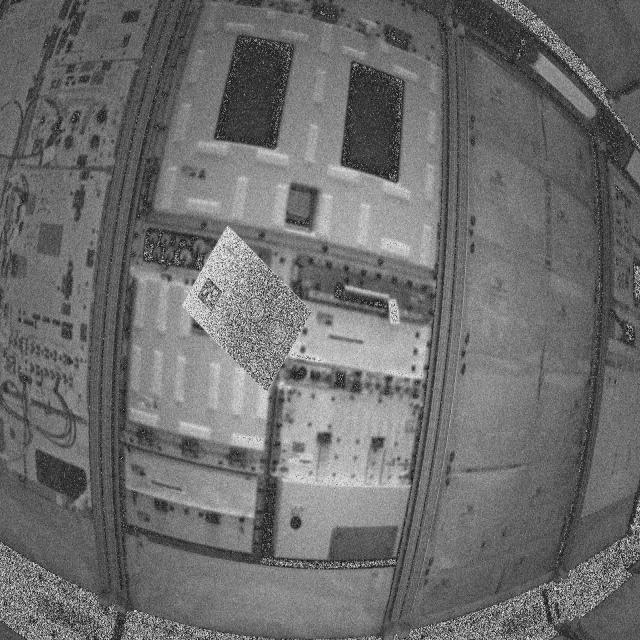coin: (243, 297, 267, 325), (267, 318, 289, 348)
